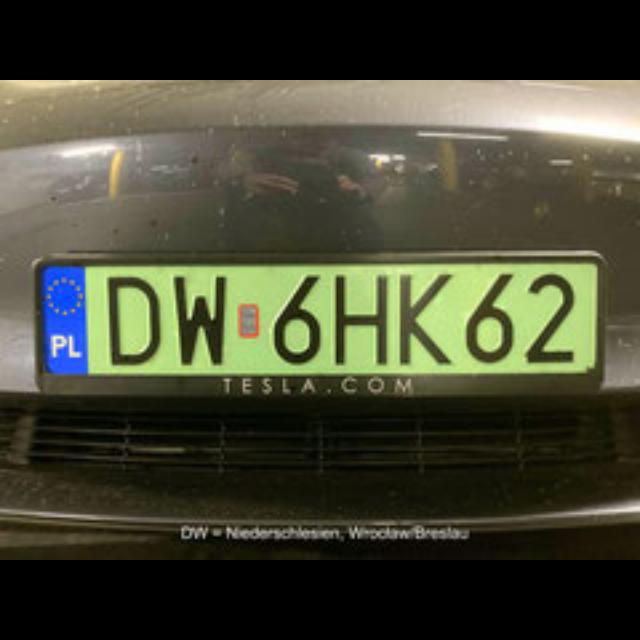pl_license_plate: (40, 264, 592, 368)
